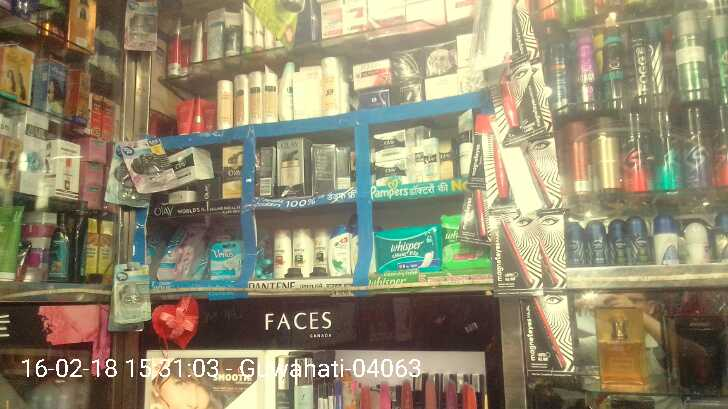venus: (156, 217, 208, 283), (208, 243, 244, 277)
